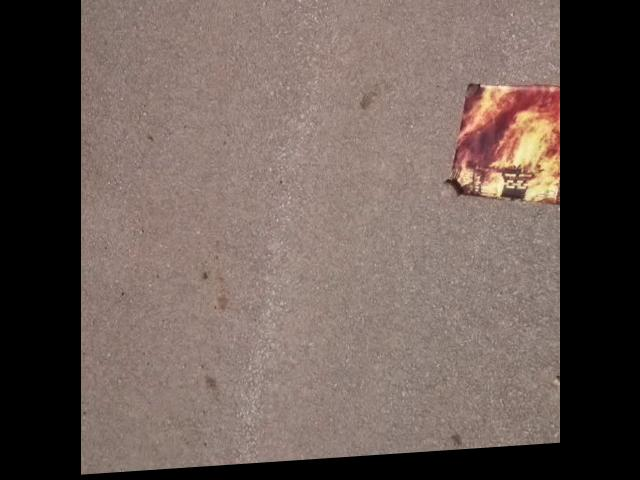fire-poster: (442, 83, 559, 222)
